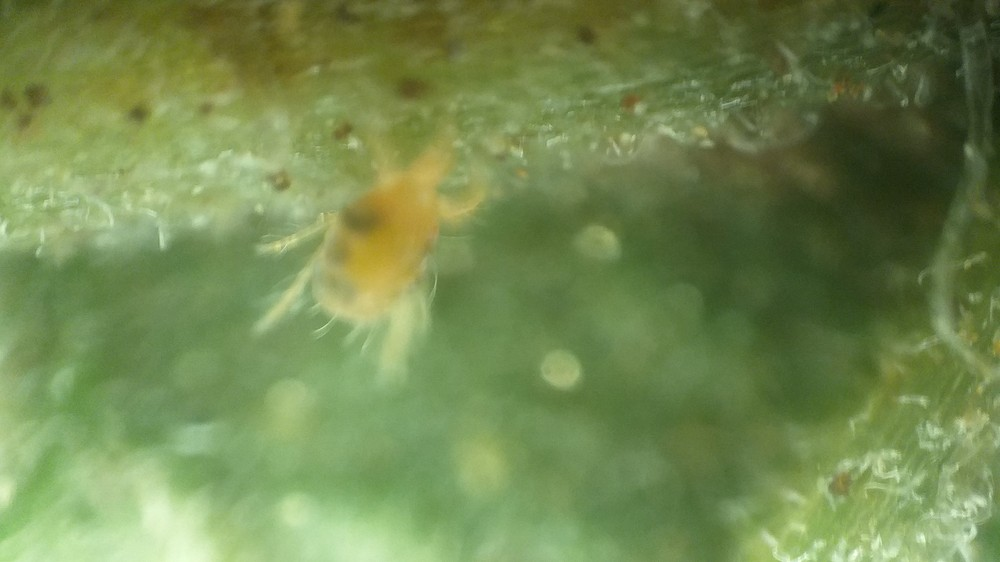Aracnido Rojo: (230, 76, 523, 406)
